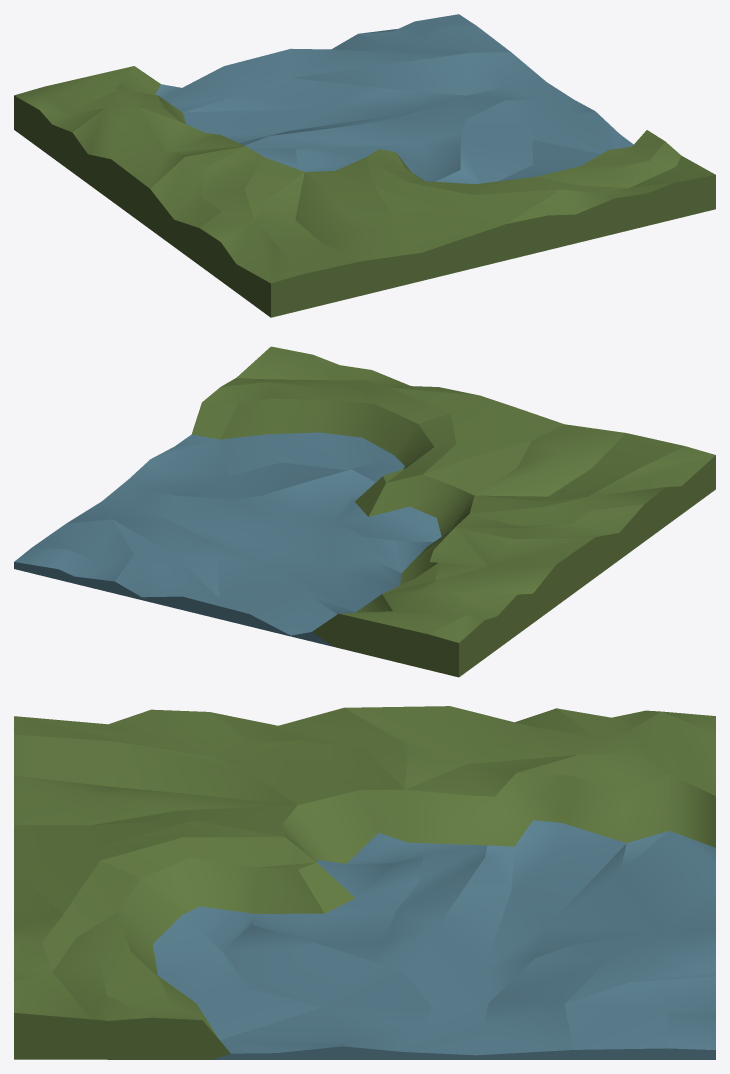
The model's file is Water_Round_LB.glb.
The picture shows the model from 3 angles, top to bottom: view 1: azimuth 30°, elevation 25°; view 2: azimuth 150°, elevation 25°; view 3: azimuth 270°, elevation 25°; orthographic projection. The views are drawn at different scales.
Parts seen in each view (by area): view 1: Water_Round_LB; view 2: Water_Round_LB; view 3: Water_Round_LB.
Boxes of the visible parts, x1=… form: Water_Round_LB: x1=14, y1=14, x2=715, y2=317; Water_Round_LB: x1=14, y1=346, x2=715, y2=677; Water_Round_LB: x1=14, y1=706, x2=715, y2=1059.
Size of the model in its own units: 1.47 by 0.1416 by 1.47.
